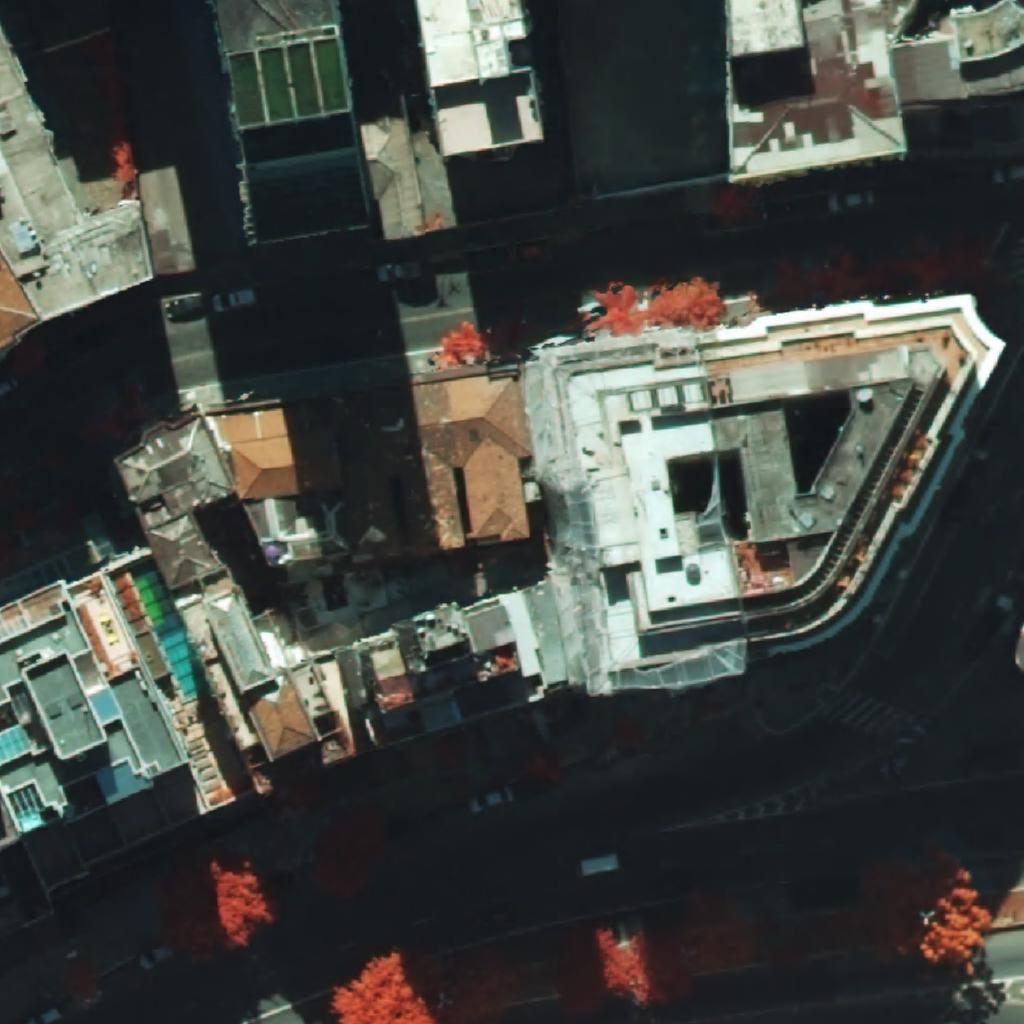pool: (155, 619, 199, 698)
